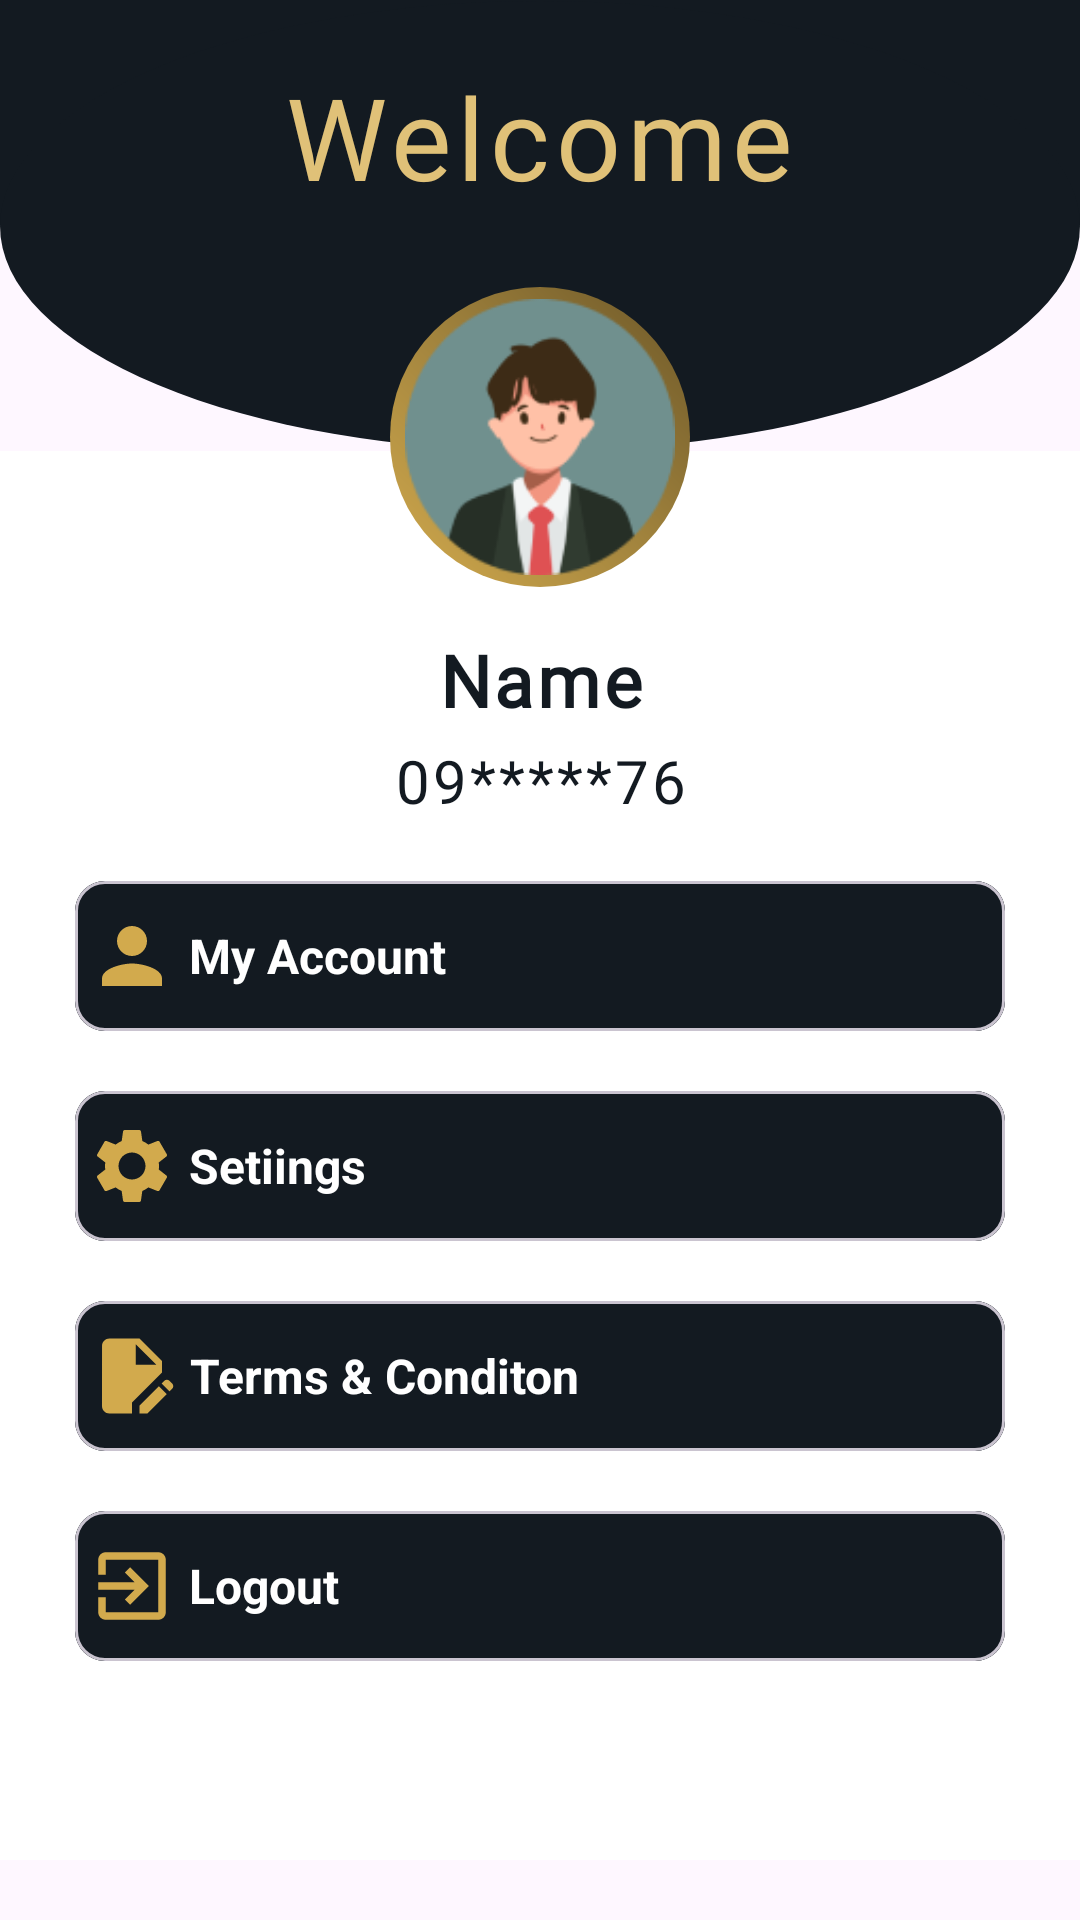

Screen size 1080px x 1920px. Icon name, then its box in pixels as (x1, y1, x2, y2):
person: (102, 926, 162, 986)
settings: (97, 1130, 167, 1202)
